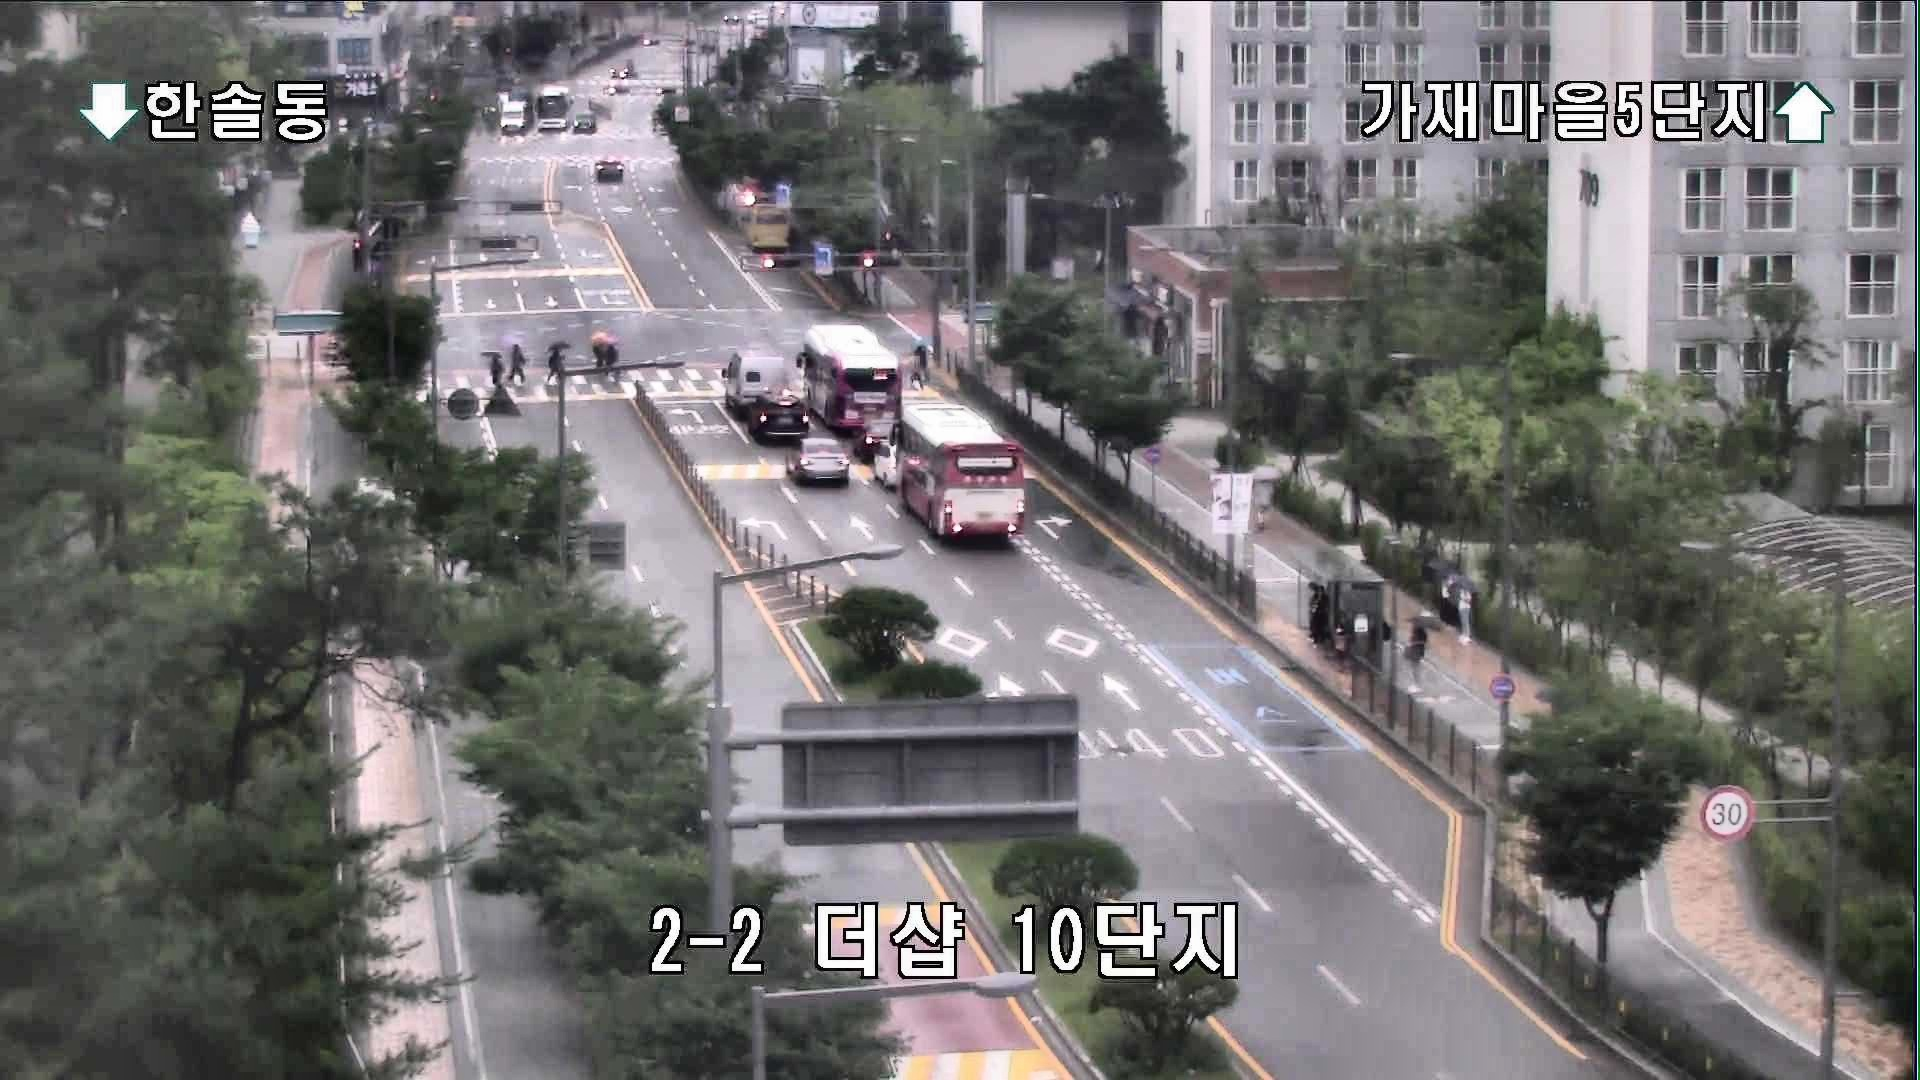sidewalk: (1309, 584, 1329, 651)
um_crosswalk: (501, 332, 527, 386), (911, 335, 935, 394), (543, 342, 571, 386), (481, 345, 506, 393), (591, 332, 611, 375), (604, 338, 621, 378)
um_sidewalk: (1403, 607, 1443, 694), (1425, 556, 1462, 636), (1249, 463, 1283, 534), (1448, 572, 1480, 646)
